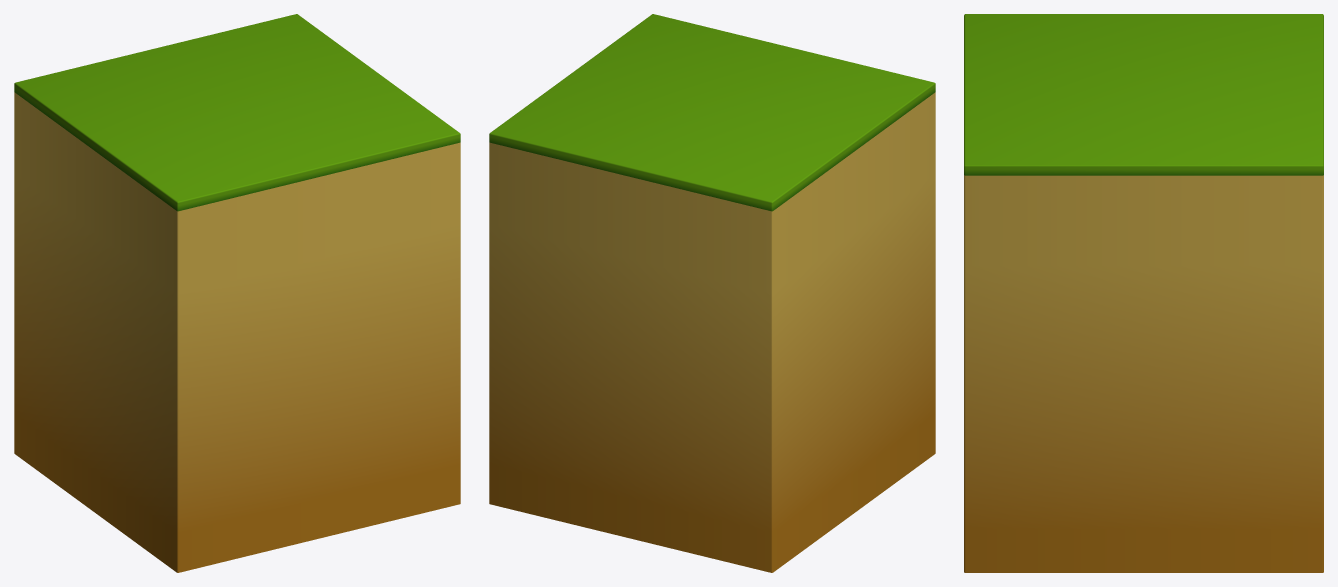
The picture shows the model from 3 angles, left to right: view 1: azimuth 30°, elevation 25°; view 2: azimuth 150°, elevation 25°; view 3: azimuth 270°, elevation 25°; orthographic projection. The views are drawn at different scales.
Parts seen in each view (by area): view 1: LOD0; view 2: LOD0; view 3: LOD0.
Boxes of the visible parts, x1=… form: LOD0: x1=14, y1=14, x2=460, y2=572; LOD0: x1=489, y1=14, x2=935, y2=572; LOD0: x1=964, y1=14, x2=1323, y2=572.
Size of what is drawn, in the model's own units: 4000 by 4000 by 5000.
